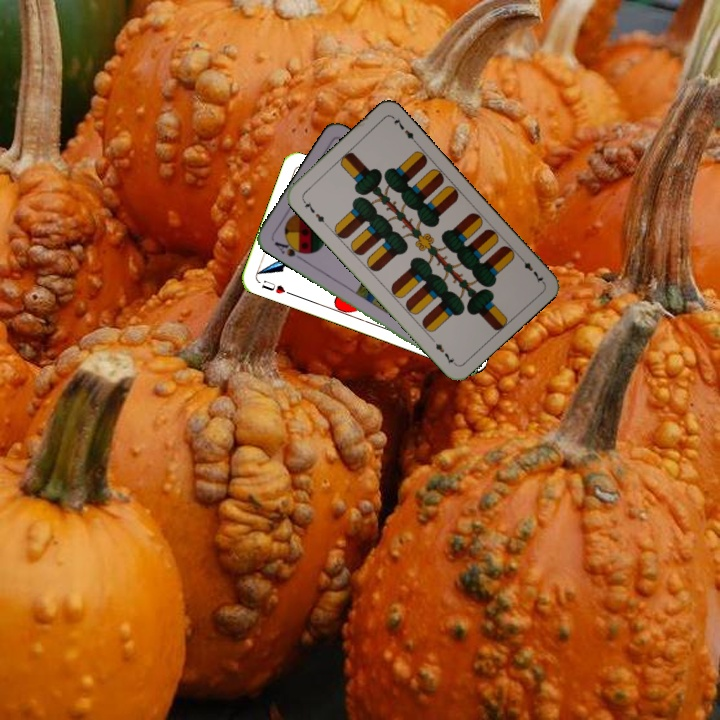E7: (515, 252, 546, 286), (298, 195, 329, 228)
HU: (257, 276, 294, 297)
SA: (270, 236, 309, 260)
